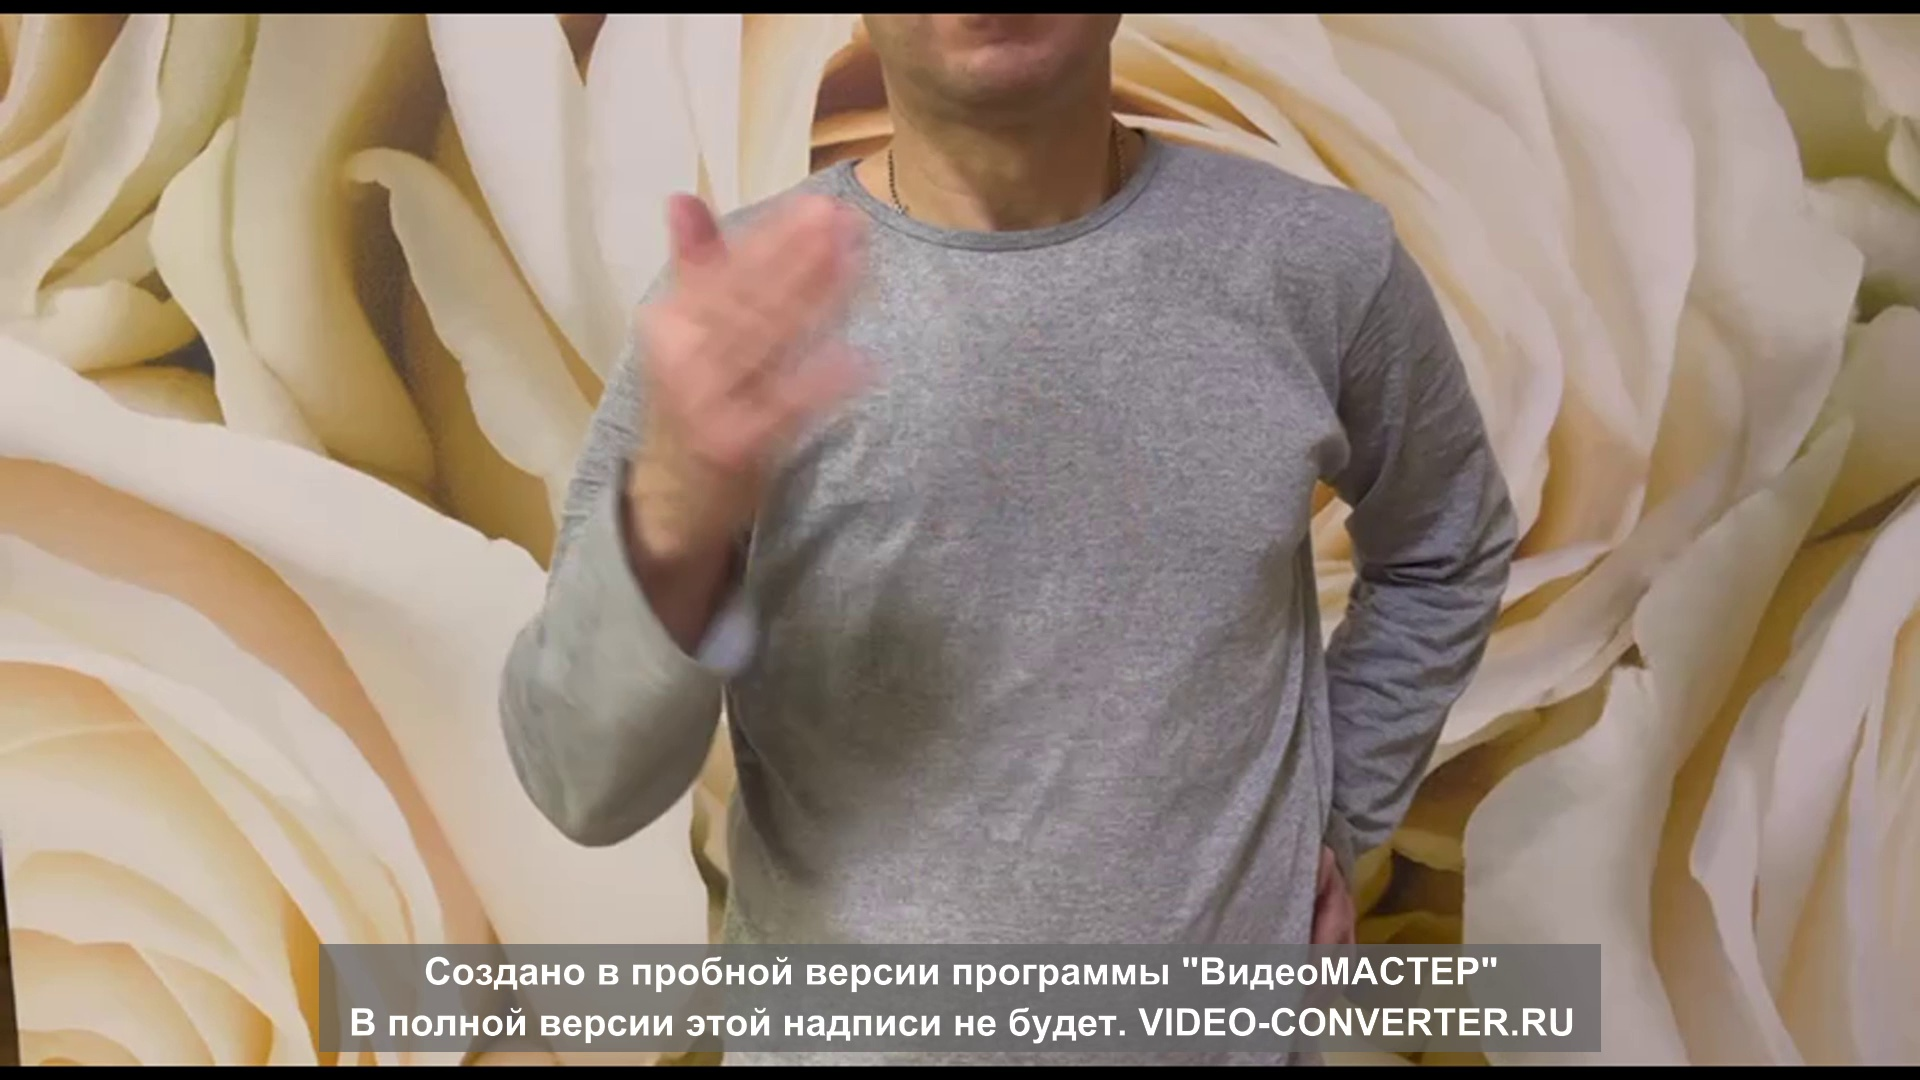Кисть: (633, 190, 866, 545)
